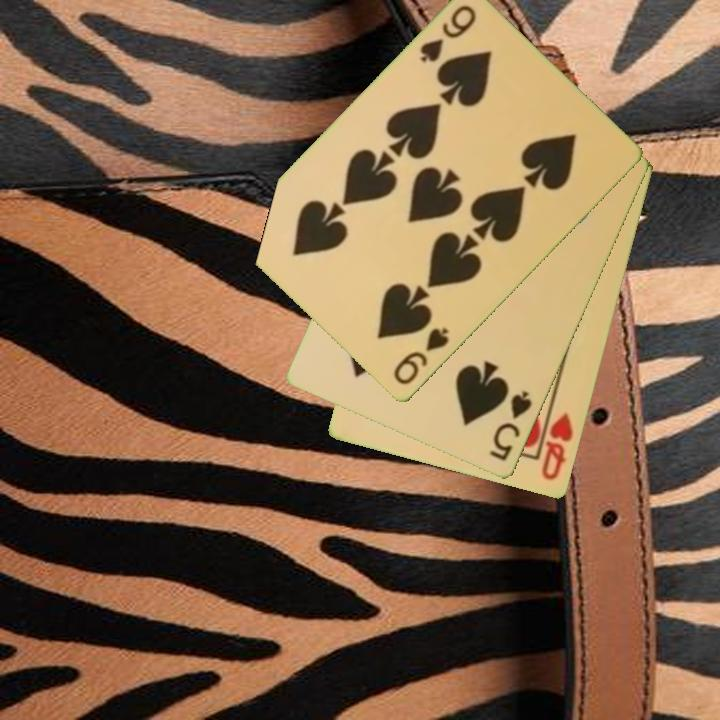5s: (486, 387, 535, 465)
9s: (389, 324, 452, 388), (416, 2, 479, 66)
Qh: (538, 410, 577, 484)
